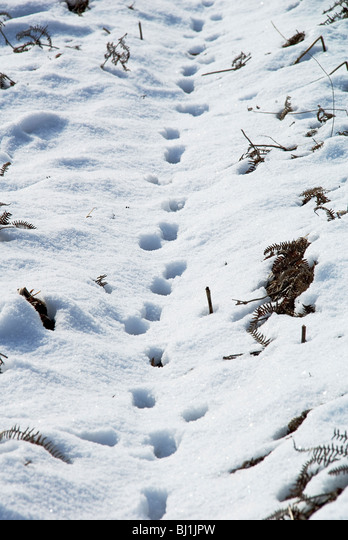fox: (143, 428, 187, 462), (127, 386, 160, 411), (134, 230, 169, 253), (158, 197, 190, 212)
